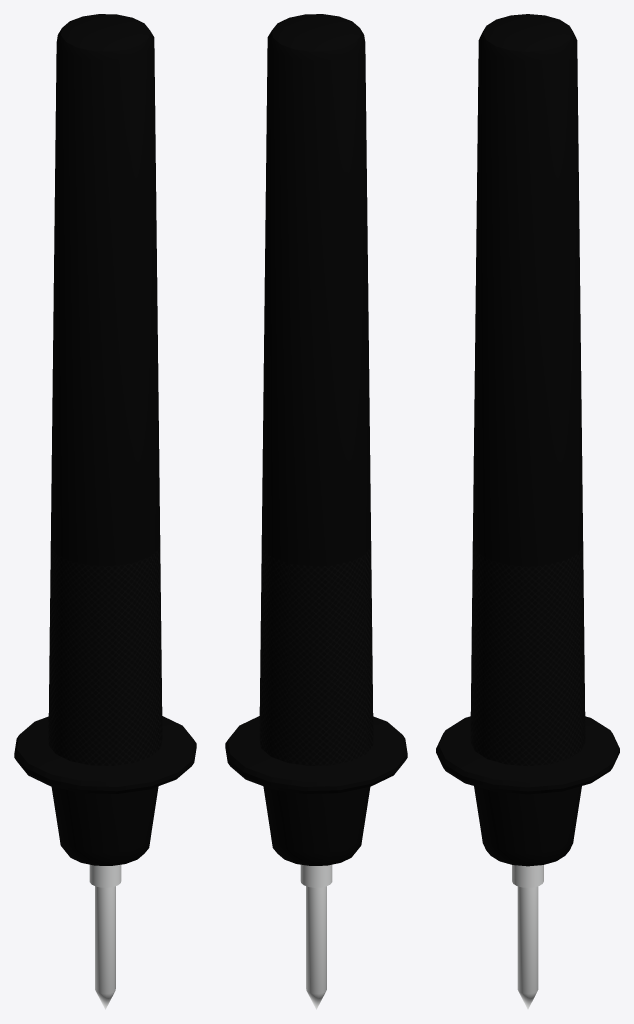
Rendered from Colokan Panjang Hitam.fbx.
3 views of the same model, side by side, from view 1: azimuth 30°, elevation 25°; view 2: azimuth 150°, elevation 25°; view 3: azimuth 270°, elevation 25° (orthographic).
Visible parts, largest first — view 1: Cylinder, Cylinder.001; view 2: Cylinder, Cylinder.001; view 3: Cylinder, Cylinder.001.
Part boxes in pixels (x1,y1,x2,y2): Cylinder: (14, 14, 196, 865); Cylinder.001: (89, 864, 121, 1009); Cylinder: (225, 14, 407, 865); Cylinder.001: (300, 864, 332, 1009); Cylinder: (436, 14, 619, 866); Cylinder.001: (512, 865, 543, 1009).
Bounding box in the file's own units: 3.41 × 20.08 × 3.41.
1 material, 1 textured.
